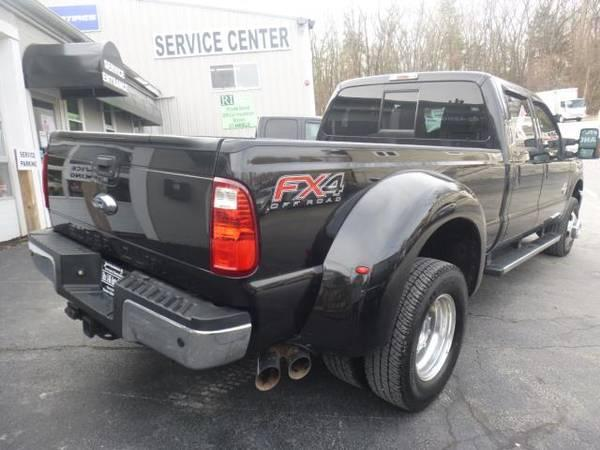Front_Right_Door: (542, 155, 576, 221)
Front_Right_Window: (532, 91, 570, 155)
Rear_Bumper: (27, 227, 251, 366)
Rear_Fender: (205, 140, 507, 357)
Rear_Right_Door: (498, 156, 548, 239)
Rear_Right_Window: (491, 80, 539, 157)
Rear_Windshield: (316, 70, 505, 151)
Right_Taillight: (209, 179, 260, 282)
Tailgate: (43, 132, 222, 298)
Wheel: (324, 250, 467, 408), (554, 194, 583, 252)
